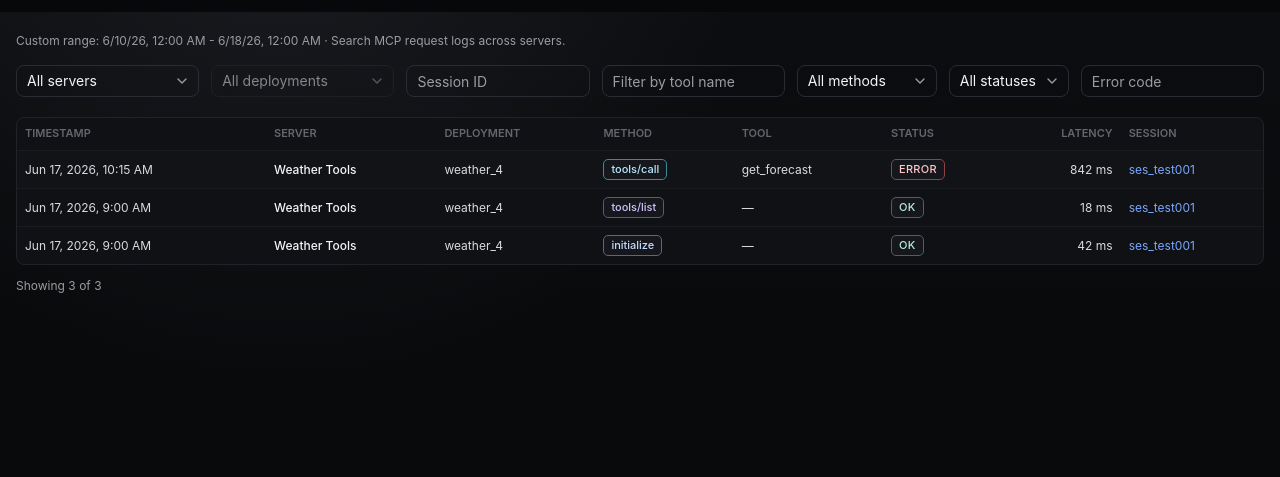
LogsTable › navigates to log detail when a row is clicked
Click the link with test id "log-row-log_test003" at (640, 169), box [17, 150, 1263, 188]
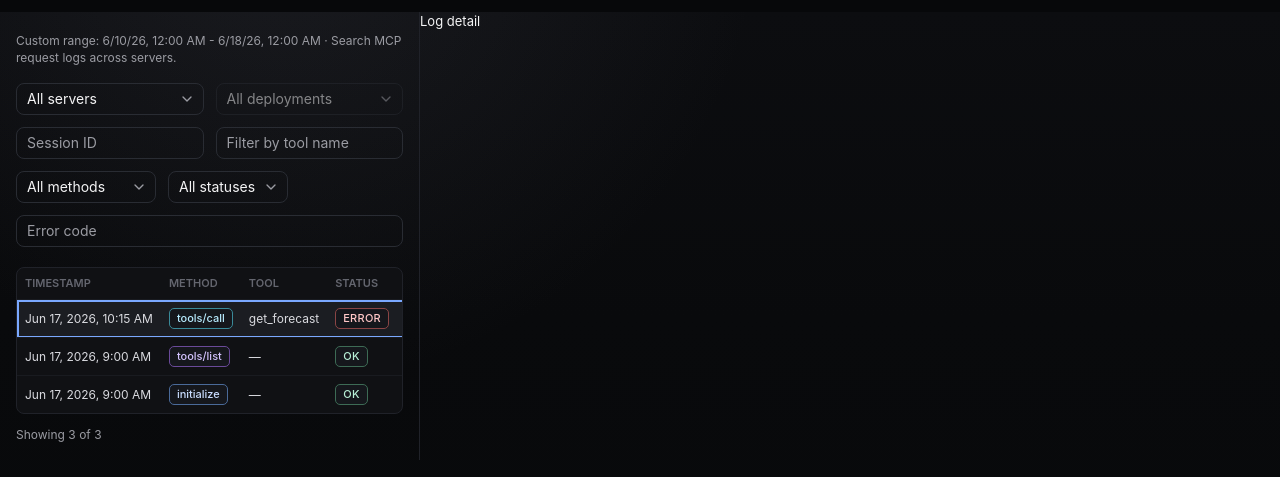
expect the text "Log detail" is shown: met, box [420, 13, 480, 29]
